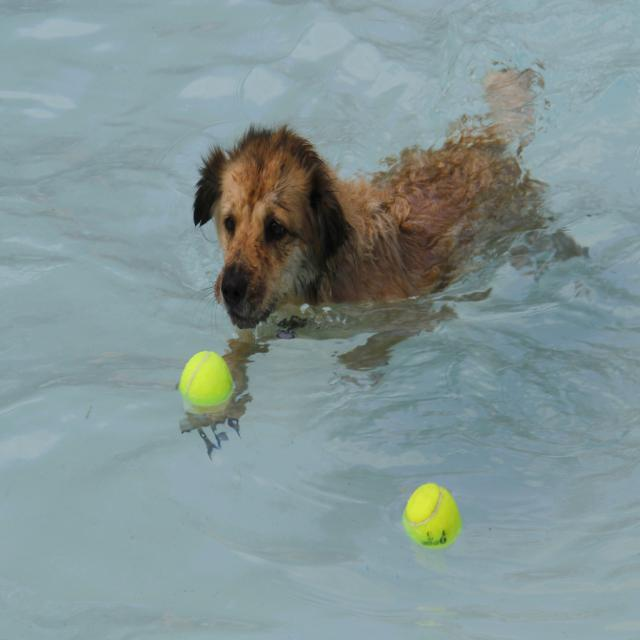Tennis ball: (402, 481, 464, 548), (176, 348, 233, 408)
